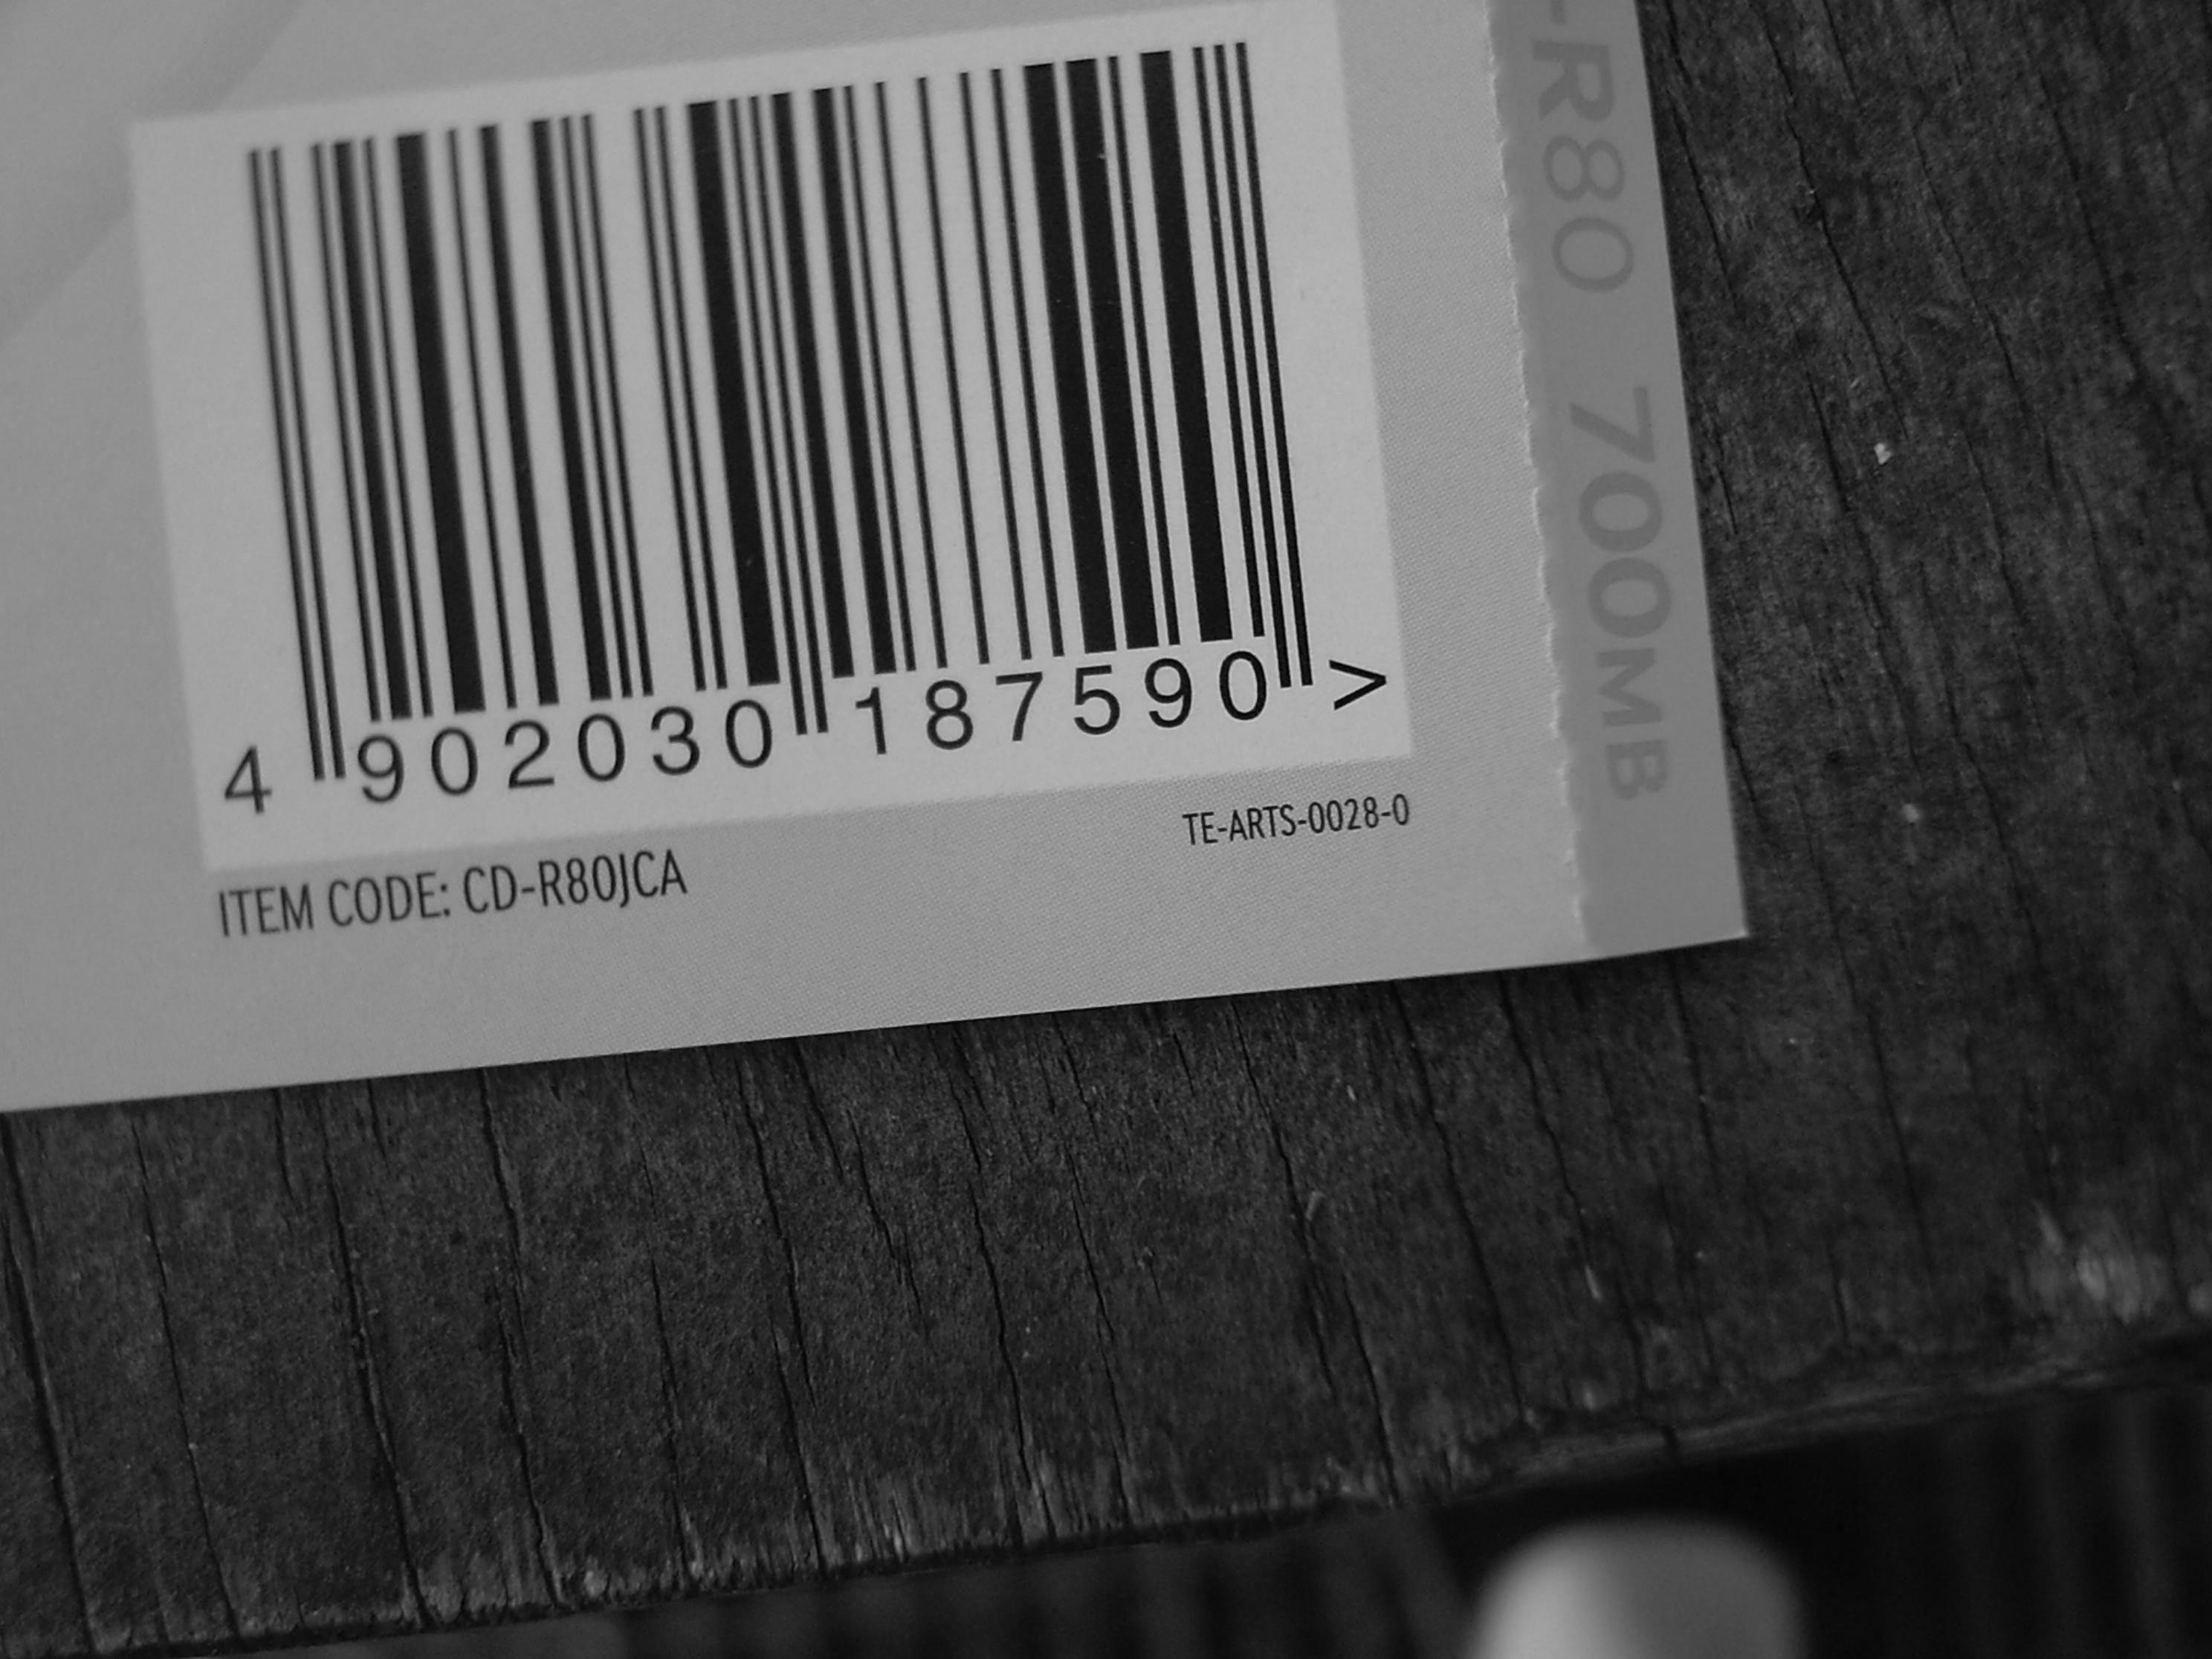Barcode: (193, 101, 1355, 694)
